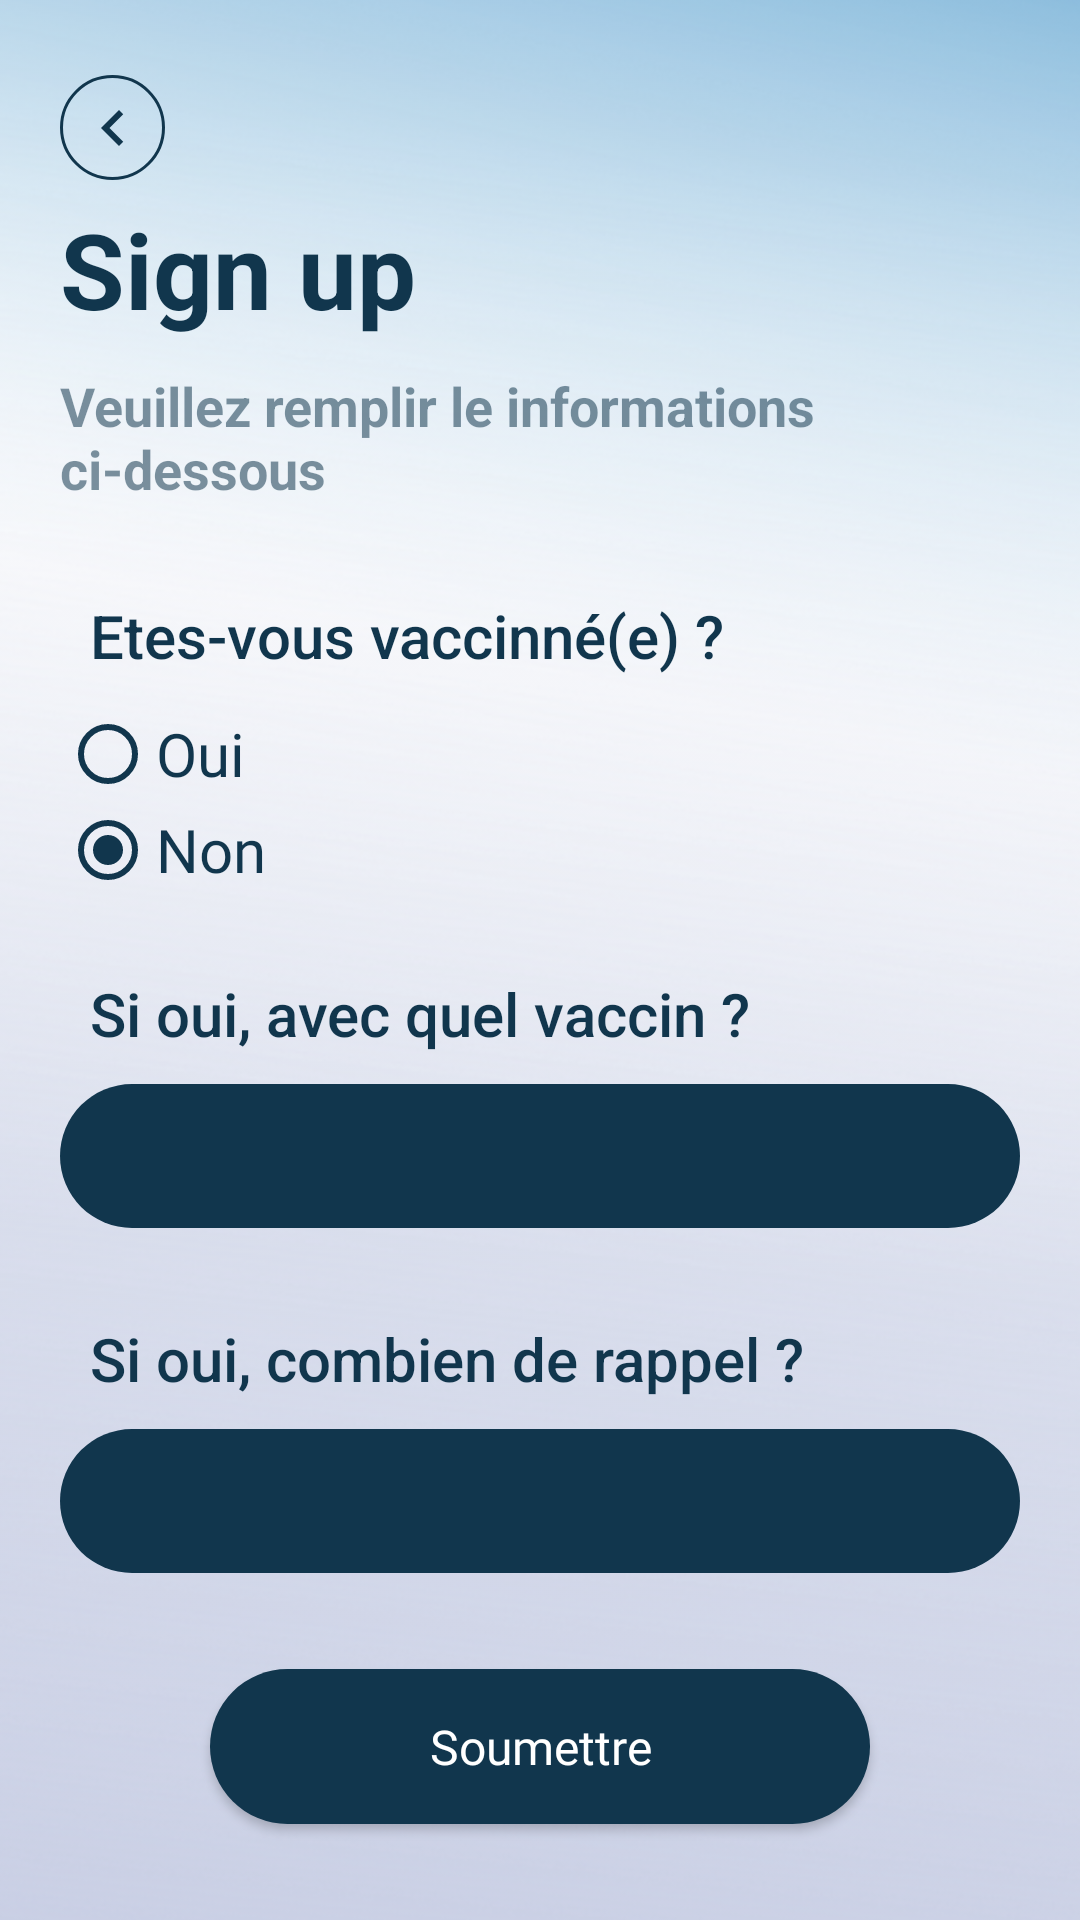

Screen size 1080w x 1920h. Icon name, then its box in pixels as (left=x1, top=y1, right=x2, bottom=y2):
navigate before: (left=60, top=75, right=165, bottom=180)
